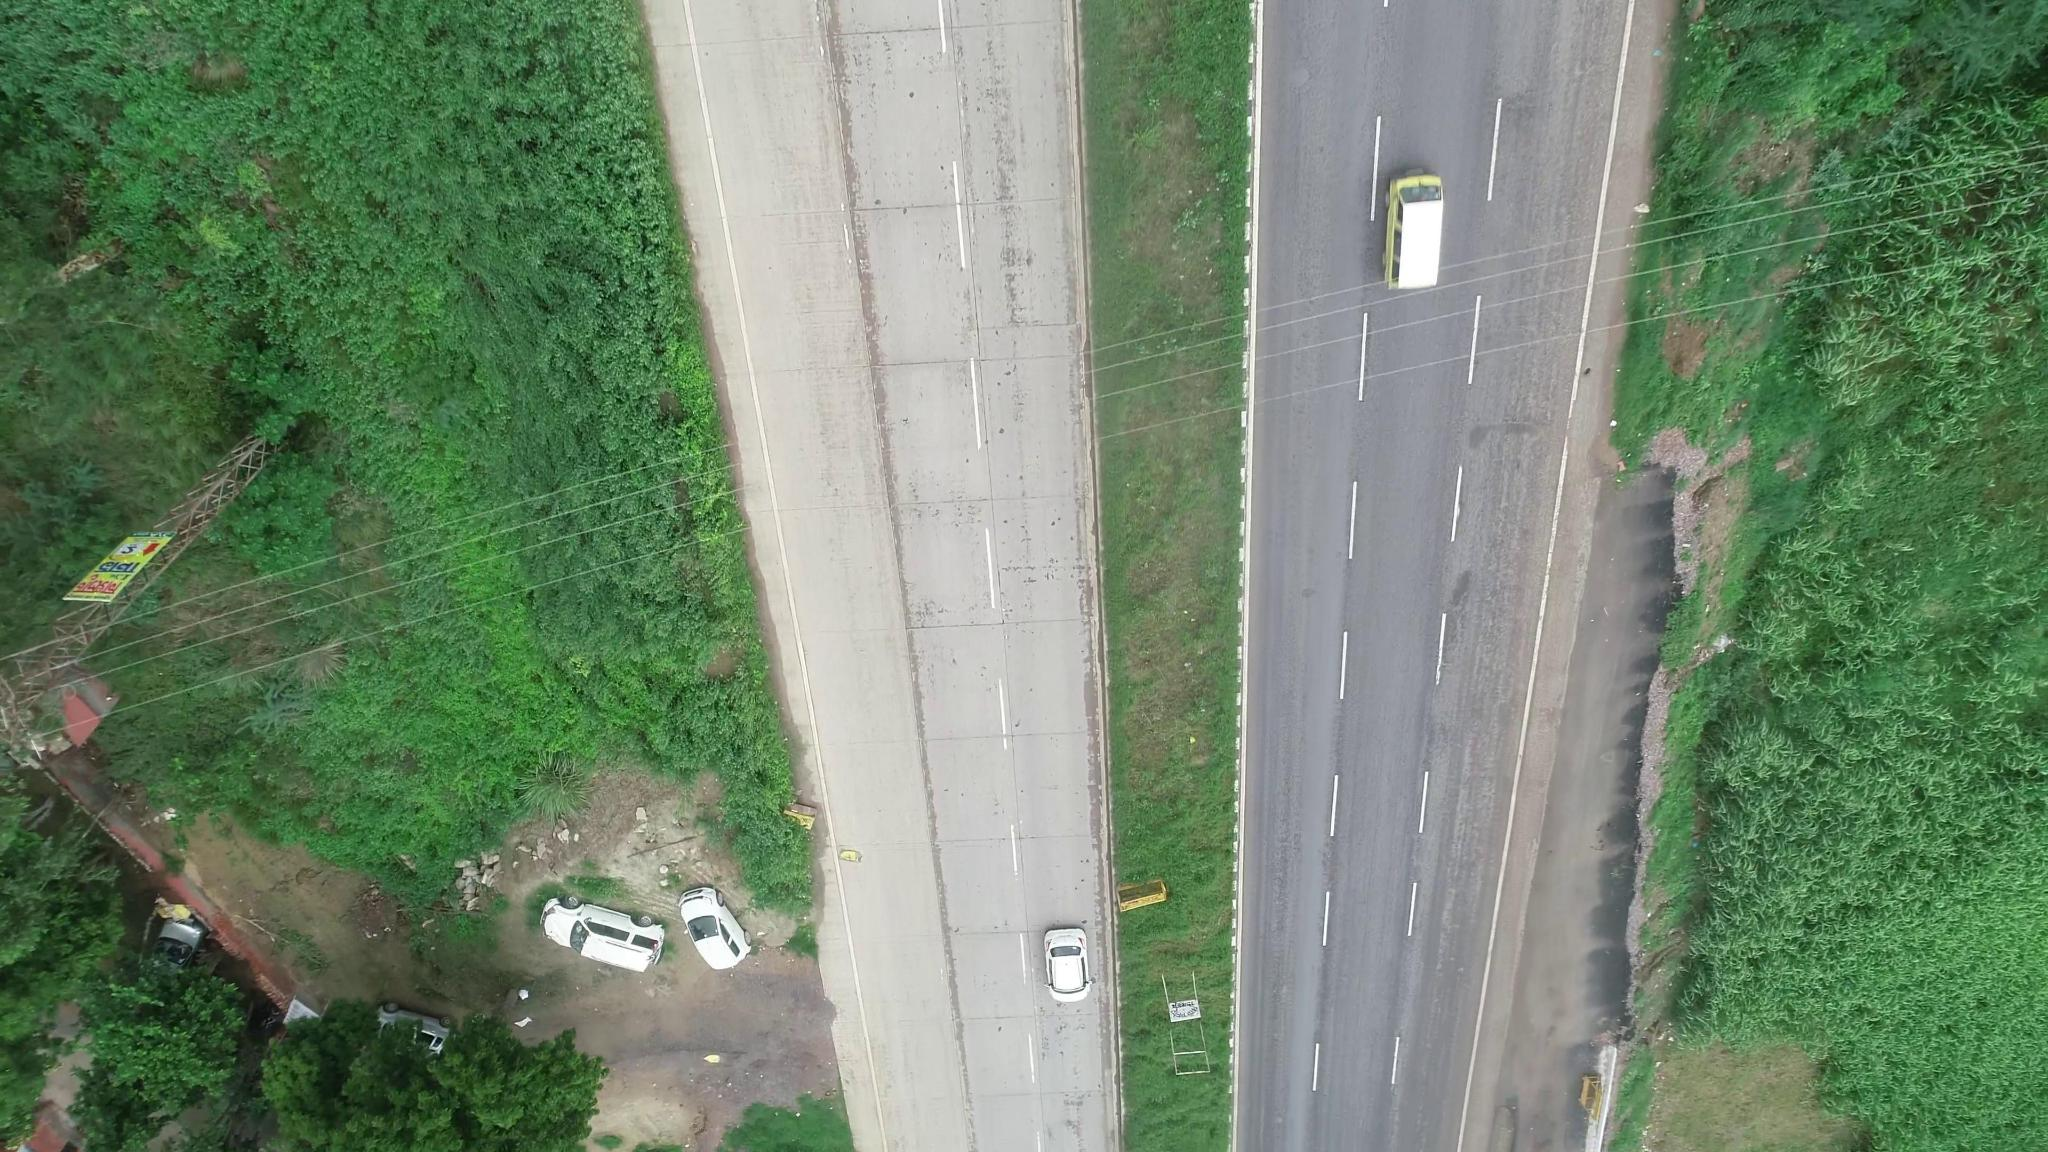Ravelling: (1259, 767, 1305, 1037)
